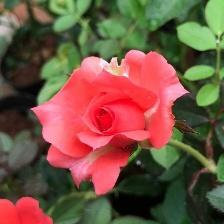rose: (29, 48, 189, 196)
